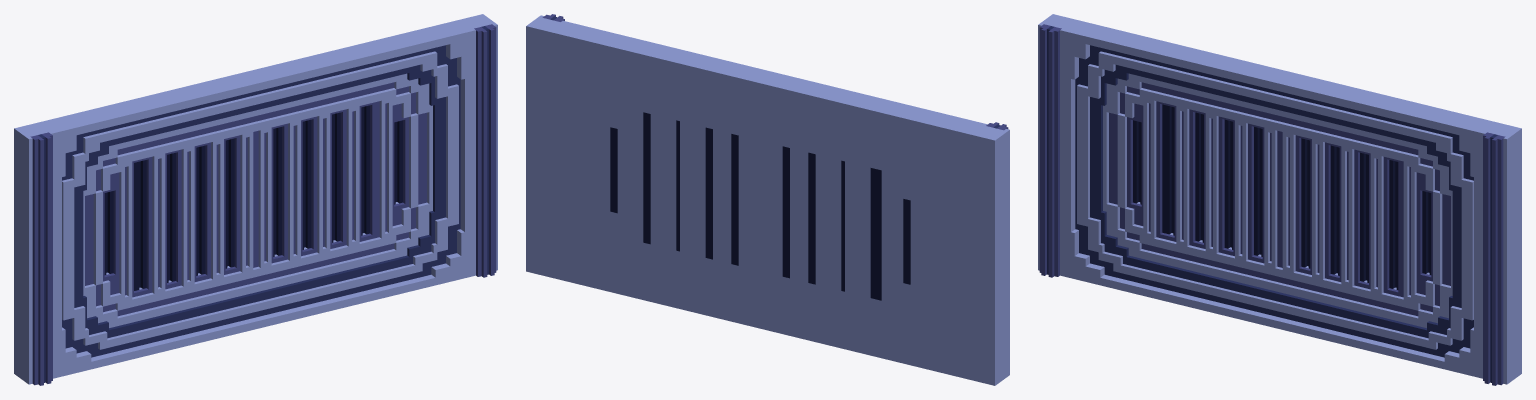
File: wall cent.obj
The picture shows the model from 3 angles, left to right: view 1: azimuth 30°, elevation 25°; view 2: azimuth 150°, elevation 25°; view 3: azimuth 330°, elevation 25°; orthographic projection.
Bounding box in the file's own units: 12.8 × 6.4 × 0.9.
Materials: 1 (1 with a texture image).
